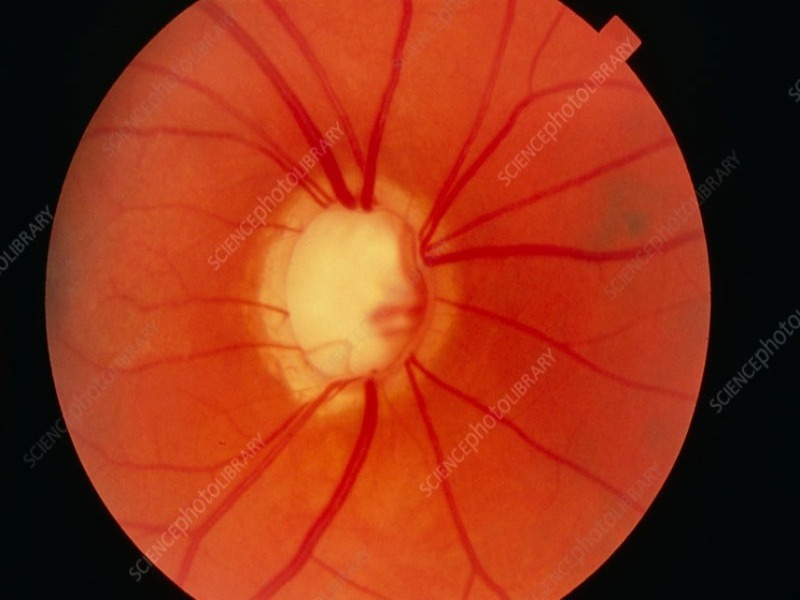Optic Cup: (286, 199, 425, 382)
Optic Disc: (245, 175, 458, 419)
